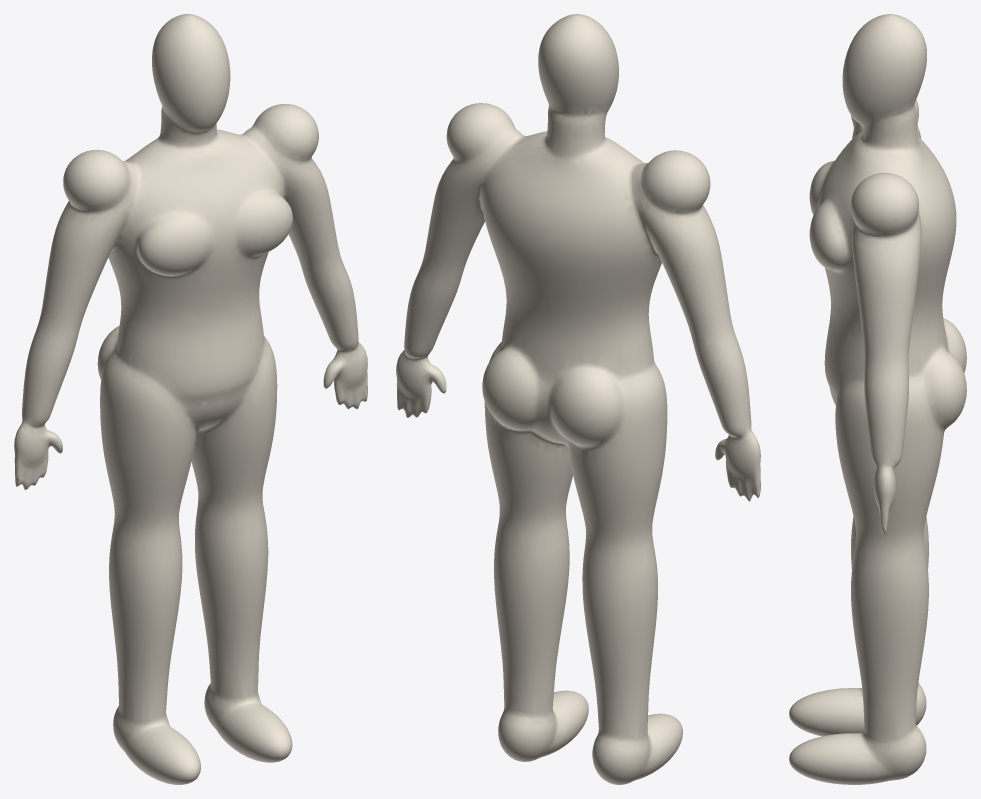
File: Woobi_Male_Mannequin.glb
The picture shows the model from 3 angles, left to right: view 1: azimuth 30°, elevation 25°; view 2: azimuth 150°, elevation 25°; view 3: azimuth 270°, elevation 25°; orthographic projection. The views are drawn at different scales.
Parts seen in each view (by area): view 1: Woobi_Male_Mannequin_Body; view 2: Woobi_Male_Mannequin_Body; view 3: Woobi_Male_Mannequin_Body.
Boxes of the visible parts, bbox=[...] form: Woobi_Male_Mannequin_Body: bbox=[14, 14, 367, 784]; Woobi_Male_Mannequin_Body: bbox=[396, 14, 760, 784]; Woobi_Male_Mannequin_Body: bbox=[789, 14, 966, 784].
Size of the model in its own units: 0.9022 by 1.8 by 0.39.
